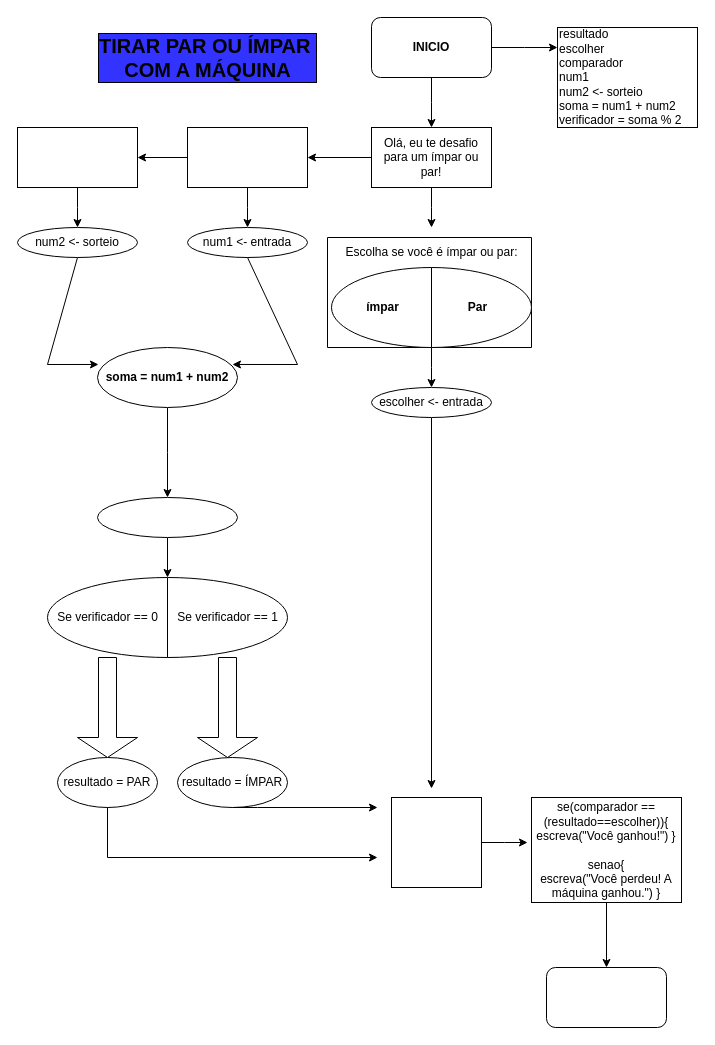
The diagram is 715 pixels wide and 1045 high, and some of its shapes have lost their labels. Here are the shapes that lost their labels. From the top down, the centre of each, then its label:
point (77, 157): Agora eu vou escolher o meu número de 1 até 5 também:
point (247, 157): Agora escolha um número de 1 até 5:
point (167, 517): verificador = soma % 2
point (436, 842): logico comparador = verdadeiro
point (606, 997): FIM
